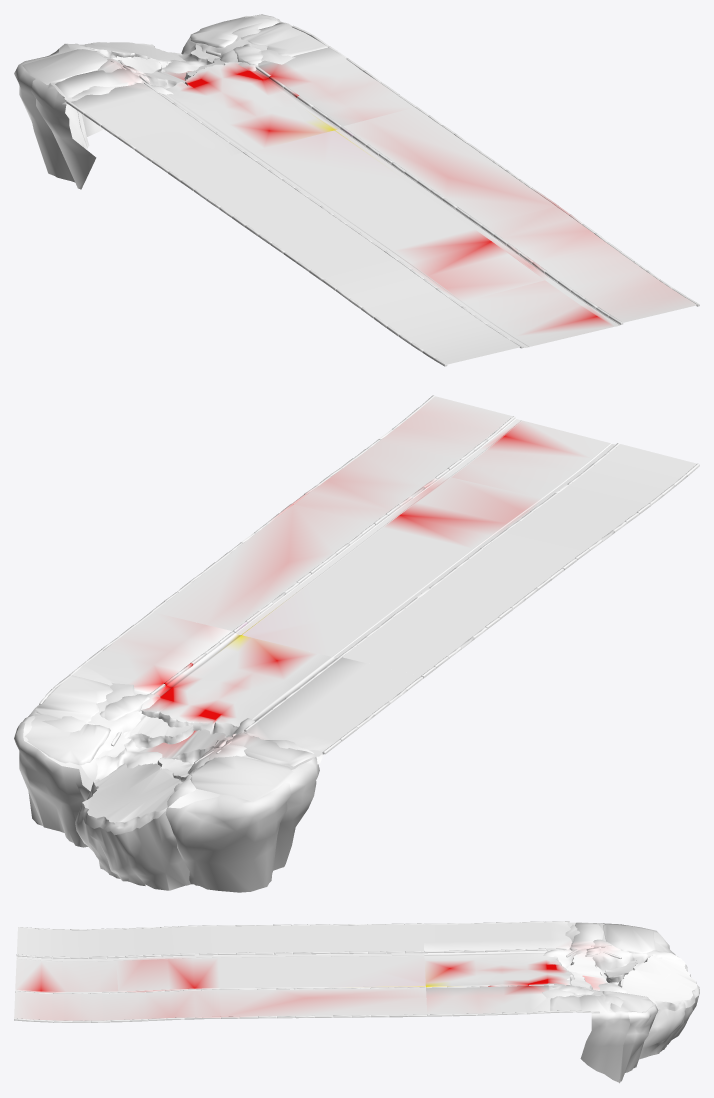
The model's file is Stage01_Floor_06.fbx.
3 views of the same model, one above another, from view 1: azimuth 30°, elevation 25°; view 2: azimuth 150°, elevation 25°; view 3: azimuth 270°, elevation 25° (orthographic). The views are drawn at different scales.
Parts seen in each view (by area): view 1: 001_T_SM.001; view 2: 001_T_SM.001; view 3: 001_T_SM.001.
Boxes of the visible parts, box(x1,y1,x2,y2) form: 001_T_SM.001: box(14, 14, 699, 366); 001_T_SM.001: box(14, 395, 699, 892); 001_T_SM.001: box(14, 921, 699, 1083).
Size of the model in its own units: 5032 by 1925 by 14638.
